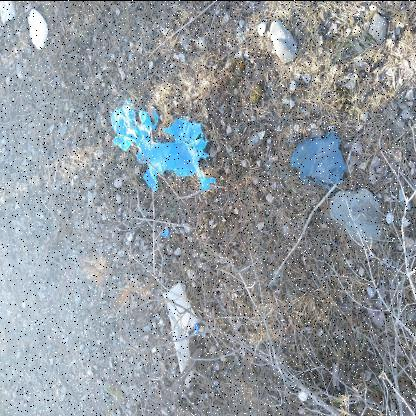foam: (29, 8, 48, 50)
plastic: (110, 96, 217, 192), (290, 130, 348, 191)
